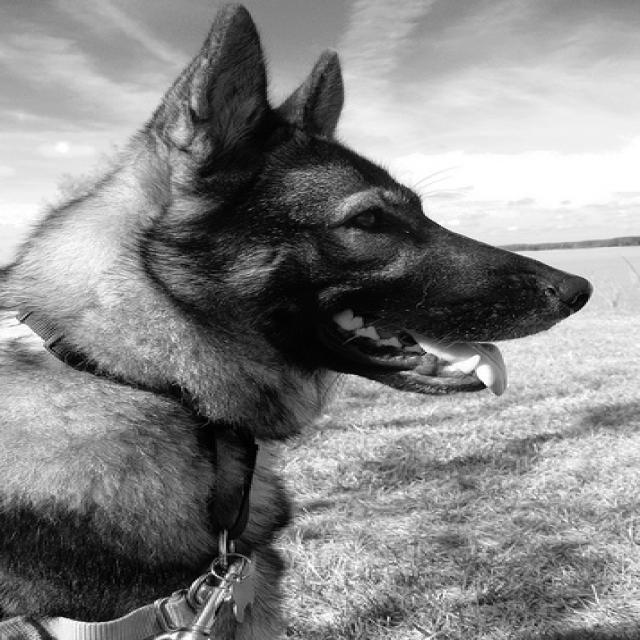dog-keeshond: (2, 1, 595, 637)
